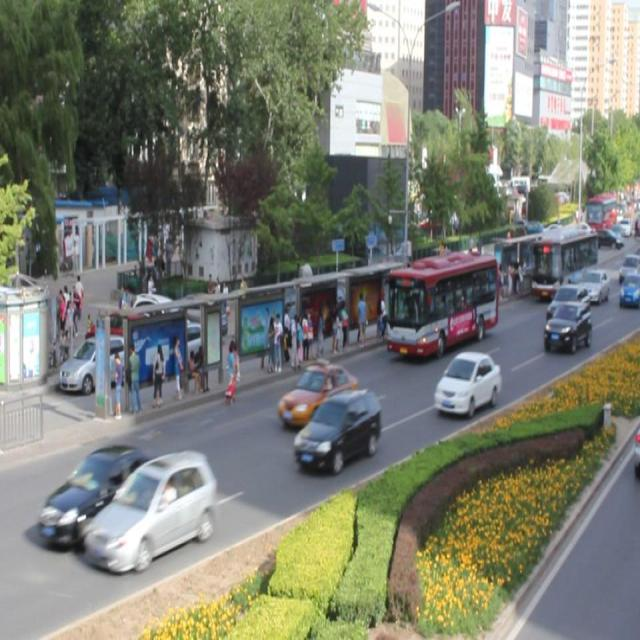car: (86, 451, 216, 569), (38, 443, 163, 548), (292, 390, 379, 472), (275, 362, 358, 429), (433, 352, 500, 414), (542, 300, 589, 352), (544, 284, 590, 328), (578, 271, 606, 304), (618, 273, 640, 308)
van: (386, 253, 497, 354), (531, 229, 596, 295)
